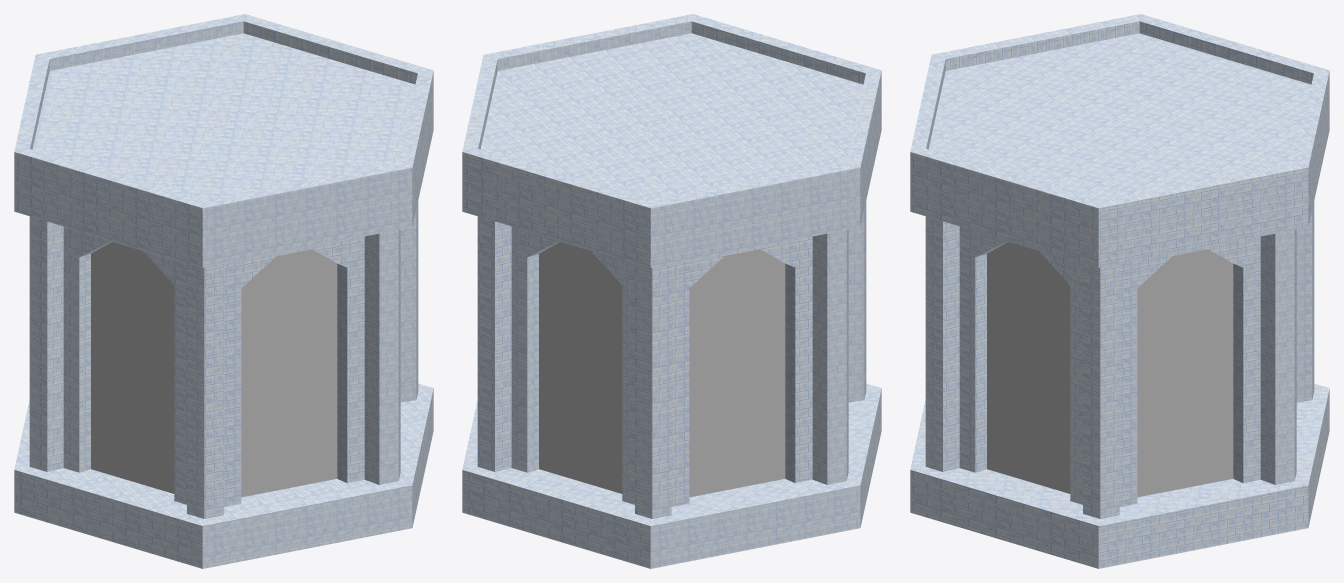
The model's file is EndBuildingSmall.fbx.
The picture shows the model from 3 angles, left to right: view 1: azimuth 30°, elevation 25°; view 2: azimuth 150°, elevation 25°; view 3: azimuth 270°, elevation 25°; orthographic projection.
Parts seen in each view (by area): view 1: Cylinder__8__1.006; view 2: Cylinder__8__1.006; view 3: Cylinder__8__1.006.
Boxes of the visible parts, x1,y1,x2,y2 form: Cylinder__8__1.006: (14,14,433,568); Cylinder__8__1.006: (462,14,881,568); Cylinder__8__1.006: (910,14,1329,568).
Size of the model in its own units: 1195 by 1034 by 1090.
